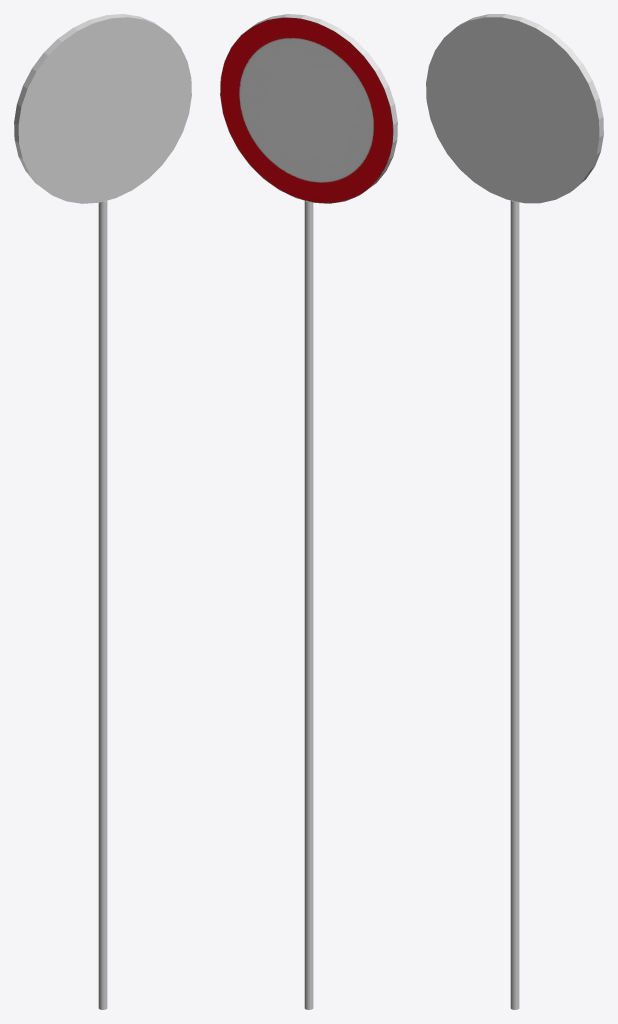
File: tasityok.dae
3 renders of one model, left to right at view 1: azimuth 30°, elevation 25°; view 2: azimuth 150°, elevation 25°; view 3: azimuth 330°, elevation 25°, orthographic.
Visible parts, largest first — view 1: Cylinder_001, Cylinder; view 2: Cylinder_001, Cylinder; view 3: Cylinder_001, Cylinder.
Part boxes in pixels (left/top/right/bottom): Cylinder_001: left=14, top=14, right=191, bottom=203; Cylinder: left=98, top=200, right=107, bottom=1009; Cylinder_001: left=220, top=14, right=397, bottom=203; Cylinder: left=304, top=200, right=313, bottom=1009; Cylinder_001: left=426, top=14, right=603, bottom=203; Cylinder: left=510, top=200, right=519, bottom=1009.
Size of the model in its own units: 0.4489 by 0.02 by 2.45.
1 material, 1 textured.
